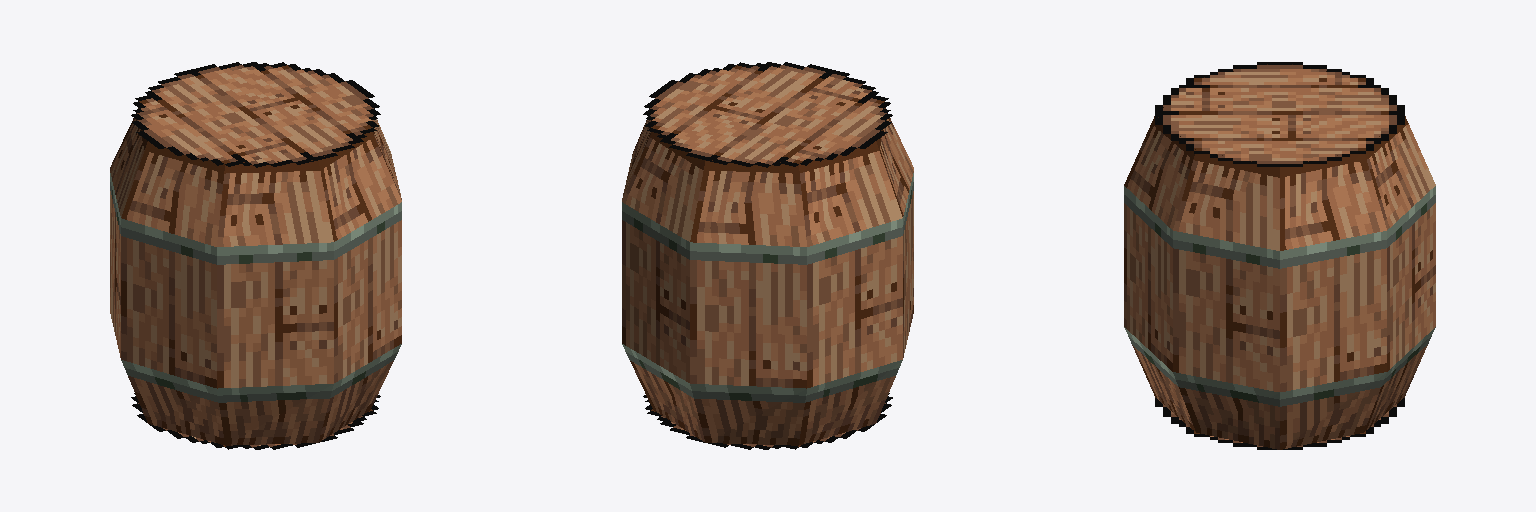
3 renders of one model, left to right at view 1: azimuth 30°, elevation 25°; view 2: azimuth 150°, elevation 25°; view 3: azimuth 270°, elevation 25°, orthographic.
Parts seen in each view (by area): view 1: Default; view 2: Default; view 3: Default.
Part boxes in pixels (x1,y1,x2,y2): Default: (110, 62, 401, 449); Default: (622, 62, 913, 449); Default: (1124, 62, 1435, 449).
Size of the model in its own units: 1 by 1 by 1.
Materials: 1 (1 with a texture image).